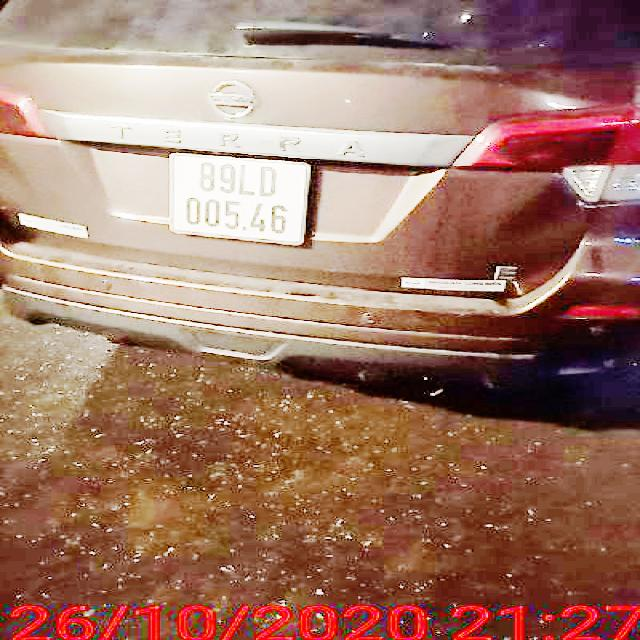license_plate: (173, 155, 308, 242)
